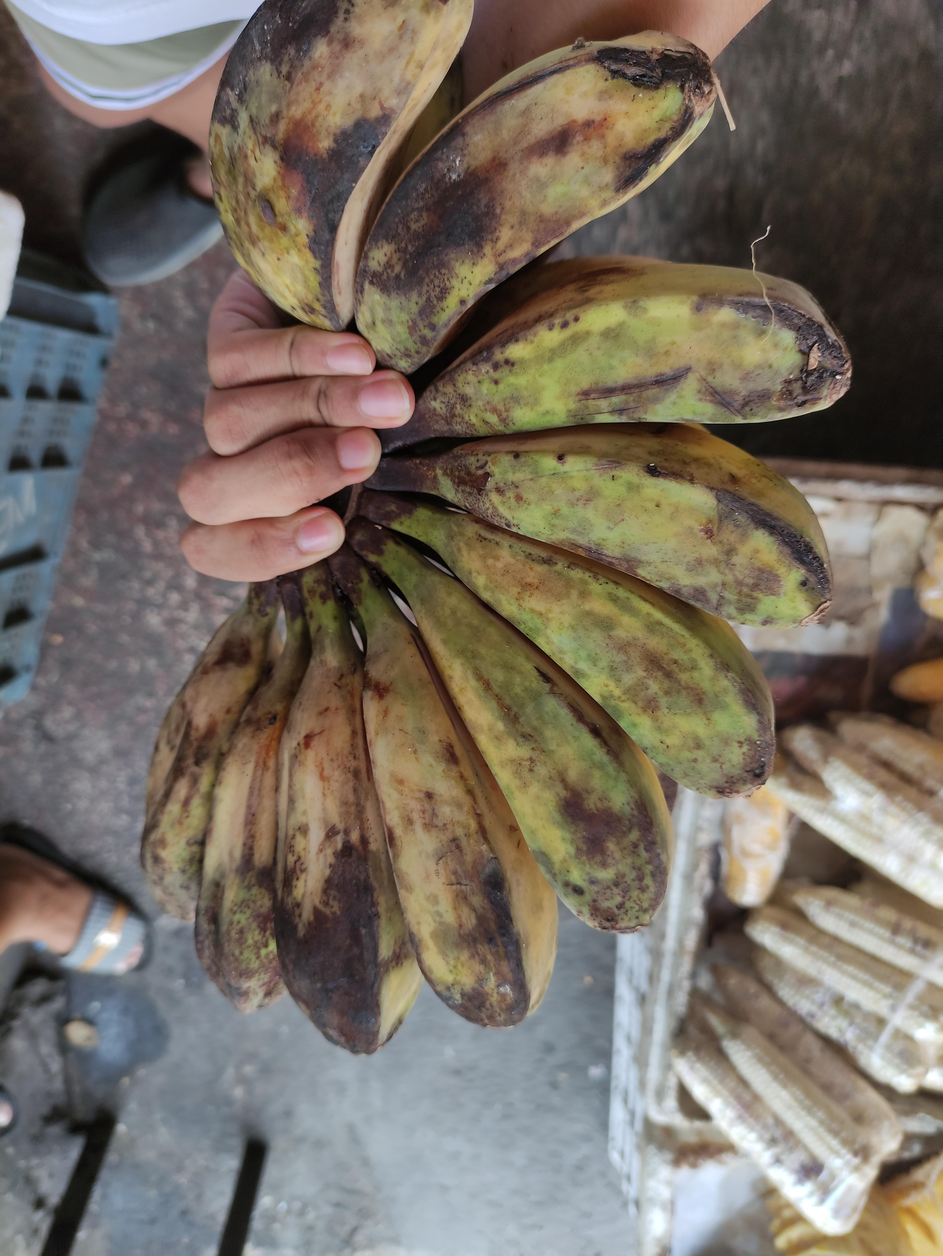underripe: (142, 0, 851, 1052)
